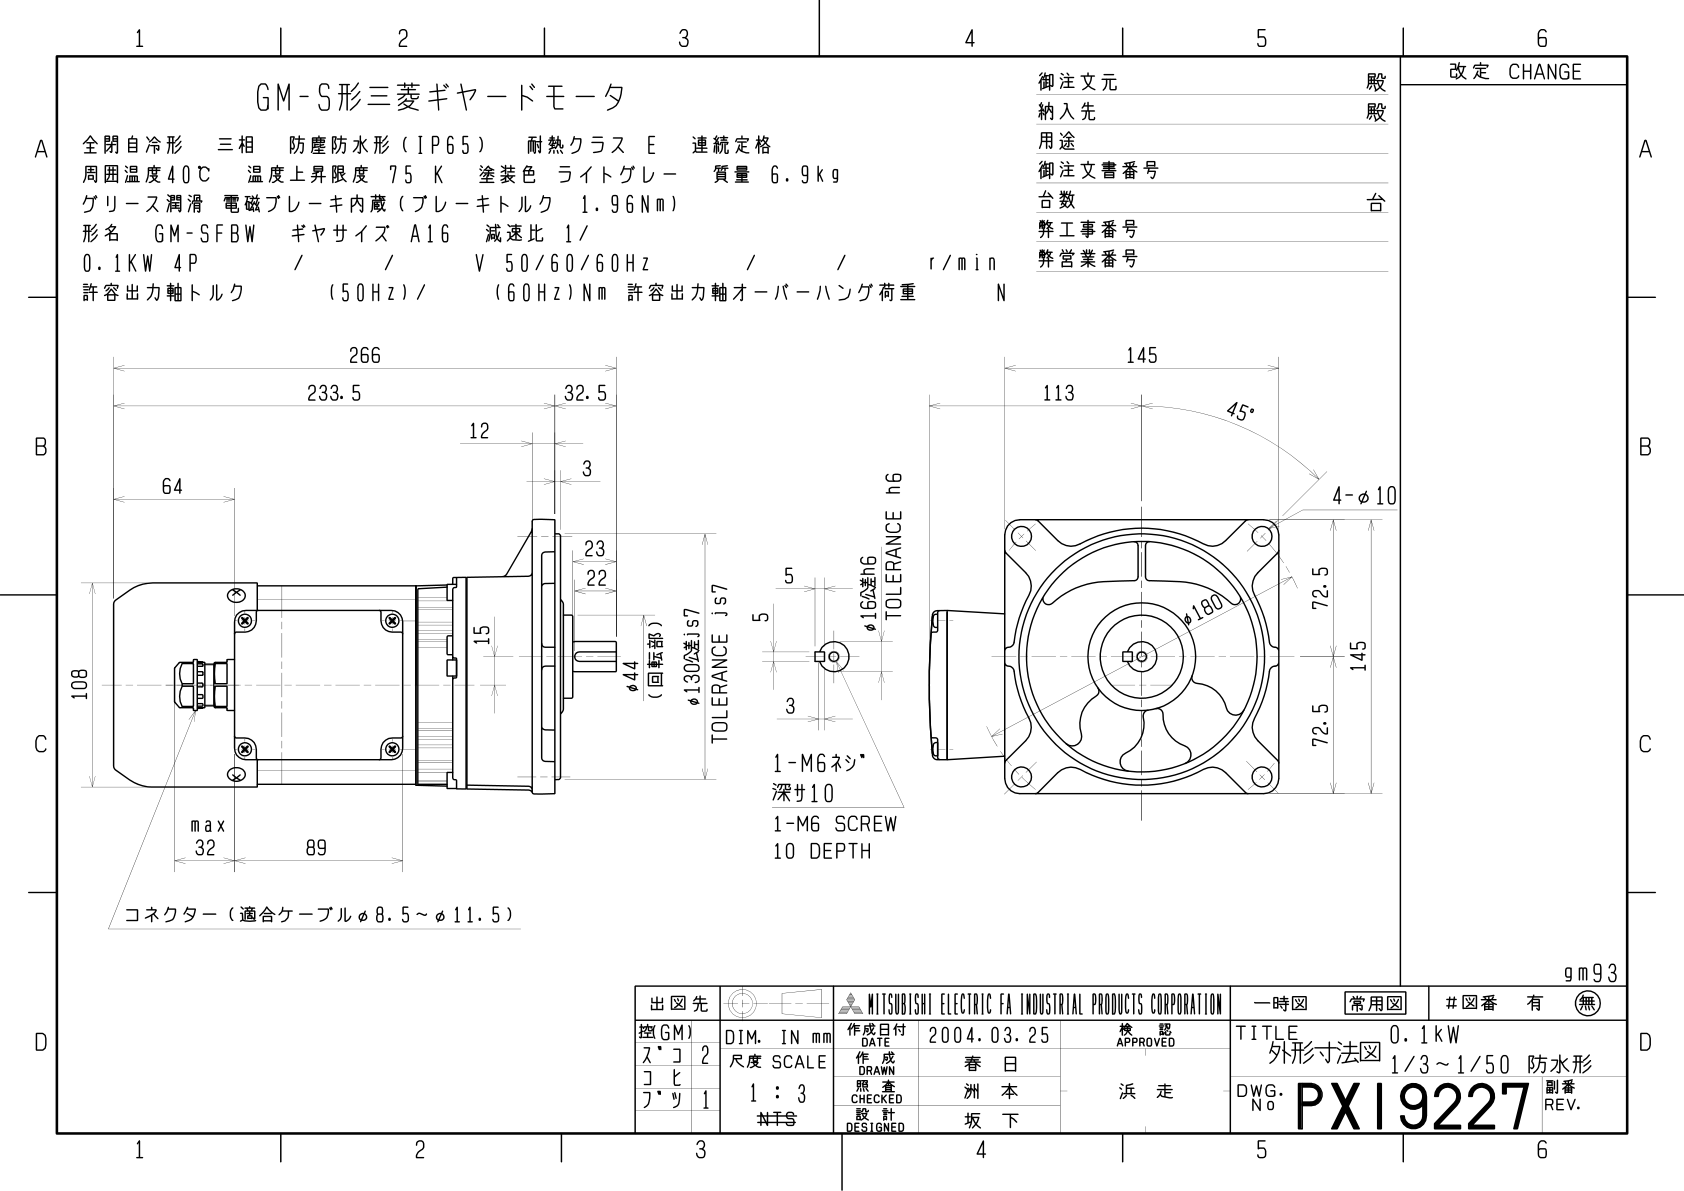GM_S_IP65＿三相_フランジ: (12, 13, 1680, 1191)
